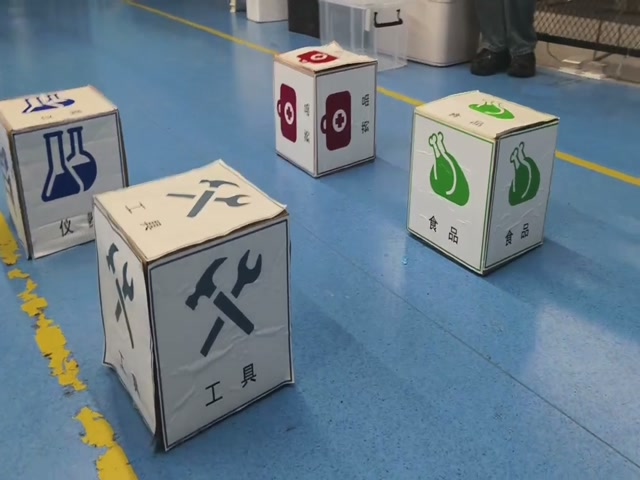Cube_food: (412, 88, 562, 142)
Cube_ins: (0, 85, 118, 137)
Cube_medicine: (276, 43, 378, 80)
Cube_tool: (92, 159, 285, 266)
